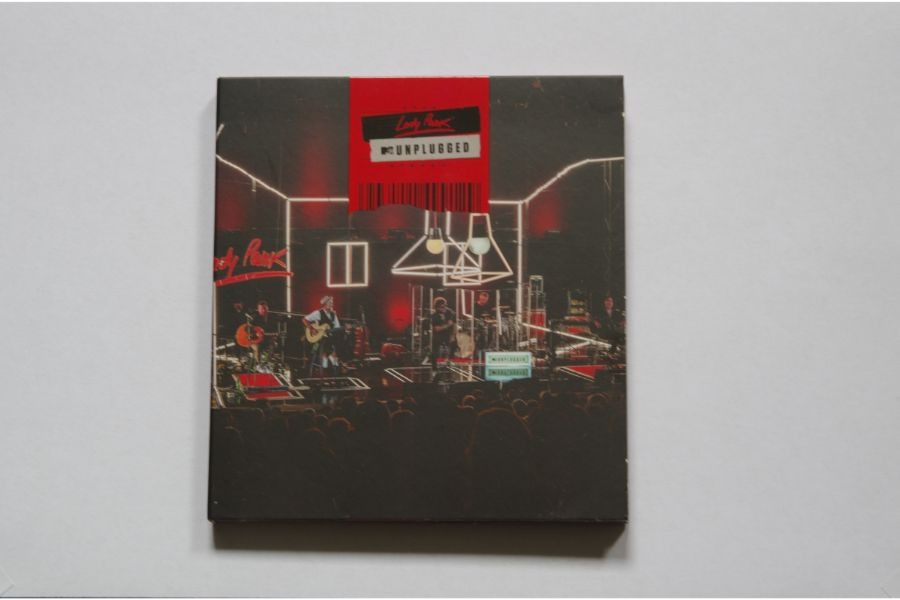album: (207, 77, 628, 526)
